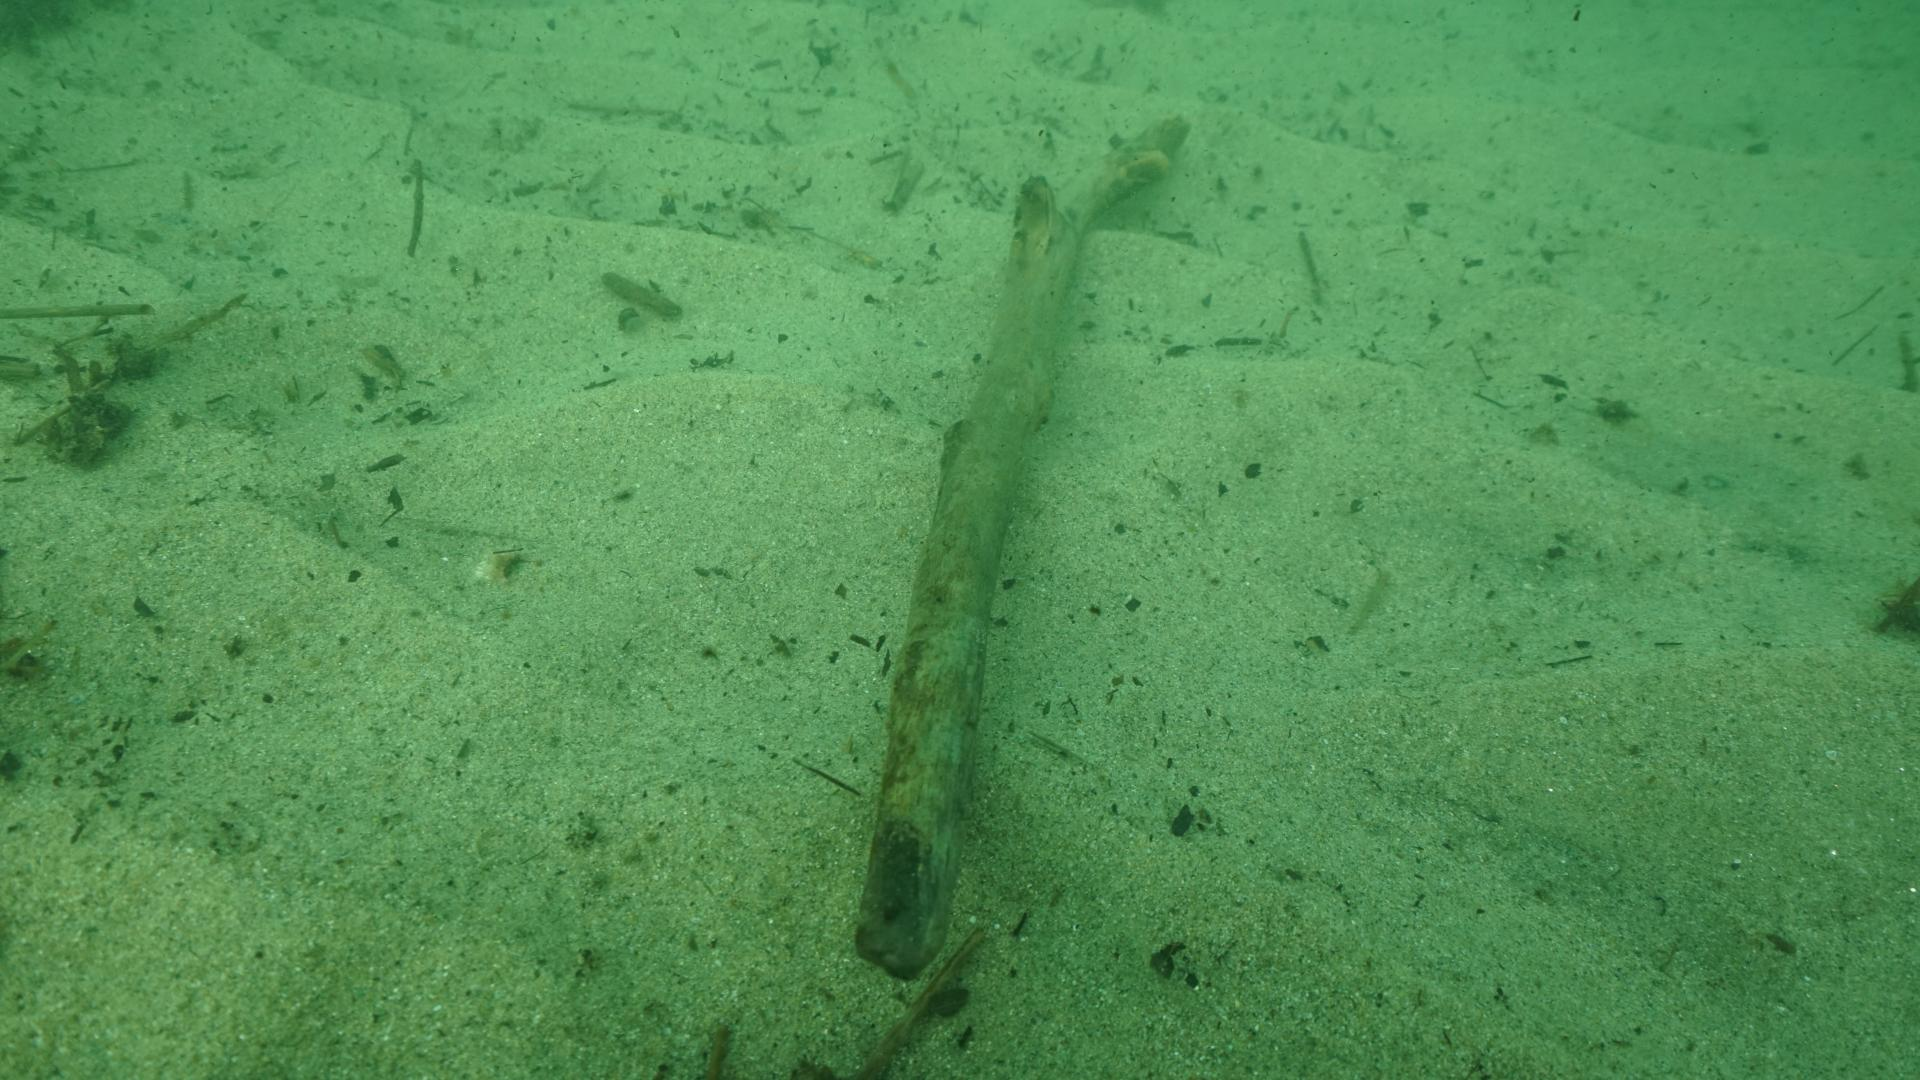wood: (851, 107, 1193, 976)
